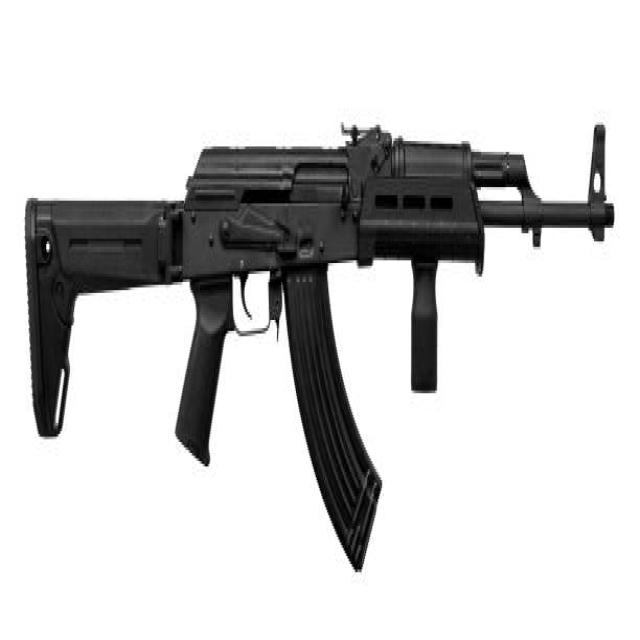rifle: (26, 106, 619, 582)
